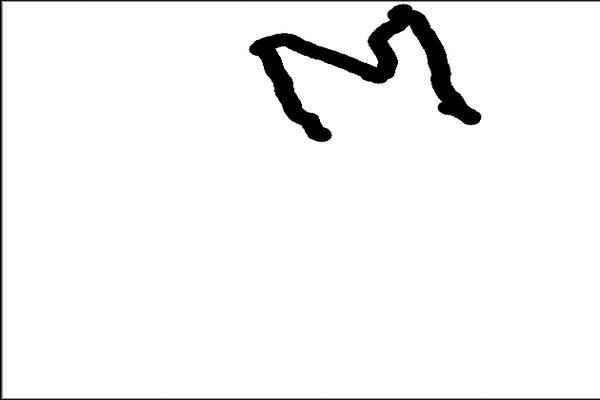M: (249, 4, 483, 141)
